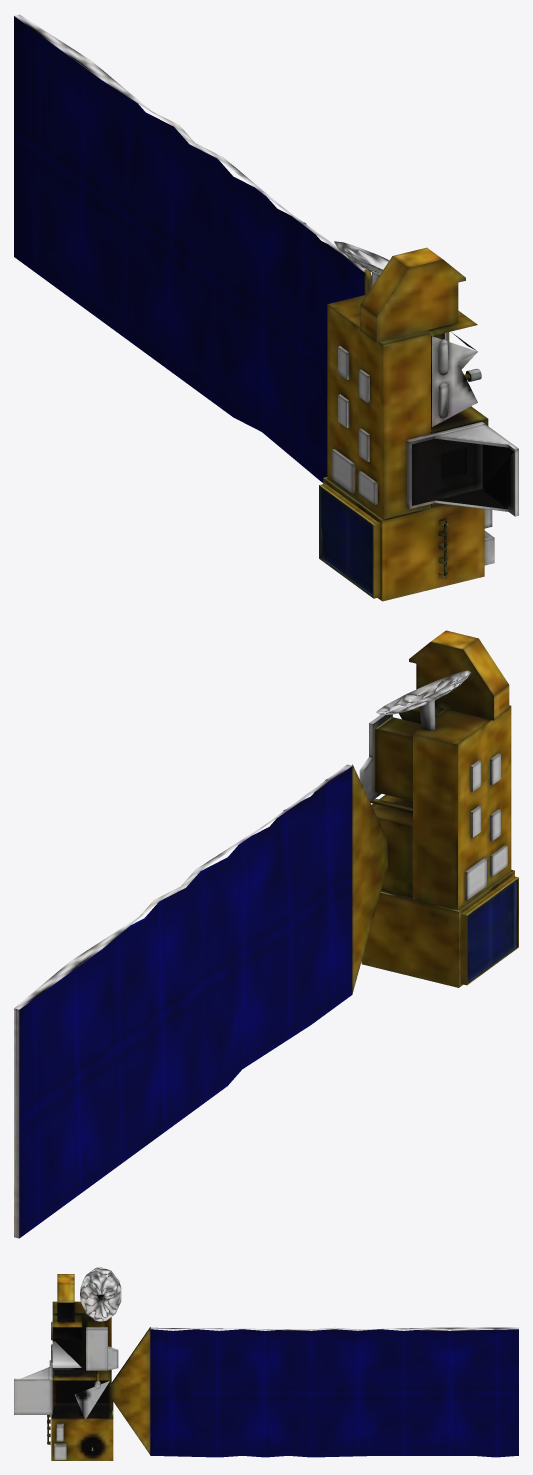
The model's file is aura-a.glb.
3 views of the same model, one above another, from view 1: azimuth 30°, elevation 25°; view 2: azimuth 150°, elevation 25°; view 3: azimuth 270°, elevation 25° (orthographic). The views are drawn at different scales.
Visible parts, largest first — view 1: aura_uv.la; view 2: aura_uv.la; view 3: aura_uv.la.
Part boxes in pixels (x1,y1,x2,y2): aura_uv.la: [14, 14, 518, 601]; aura_uv.la: [14, 630, 518, 1238]; aura_uv.la: [14, 1267, 518, 1460].
Bounding box in the file's own units: 8.98 × 18.99 × 50.82.
8 materials, 8 textured.
